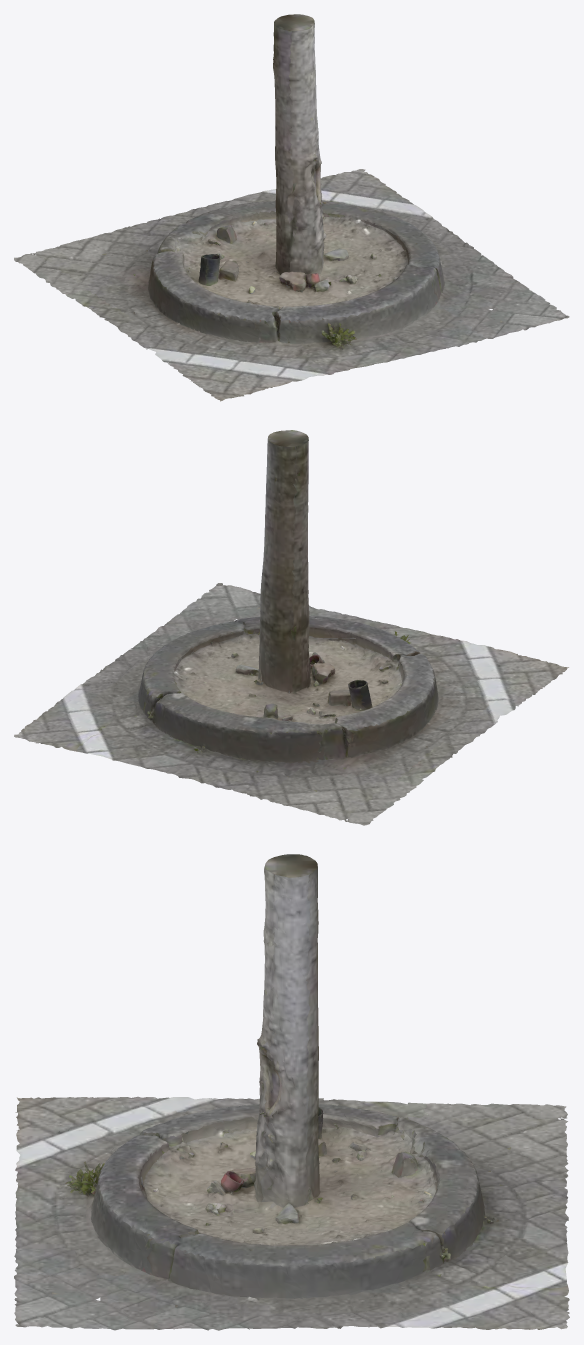
The model's file is tree_planter_01.glb.
The picture shows the model from 3 angles, top to bottom: view 1: azimuth 30°, elevation 25°; view 2: azimuth 150°, elevation 25°; view 3: azimuth 270°, elevation 25°; orthographic projection. The views are drawn at different scales.
Parts seen in each view (by area): view 1: Object_2; view 2: Object_2; view 3: Object_2.
Part boxes in pixels (x1,y1,x2,y2): Object_2: [14, 14, 569, 401]; Object_2: [14, 430, 568, 825]; Object_2: [14, 854, 569, 1330].
Size of the model in its own units: 2.27 by 1.64 by 2.31.
Materials: 1 (1 with a texture image).
